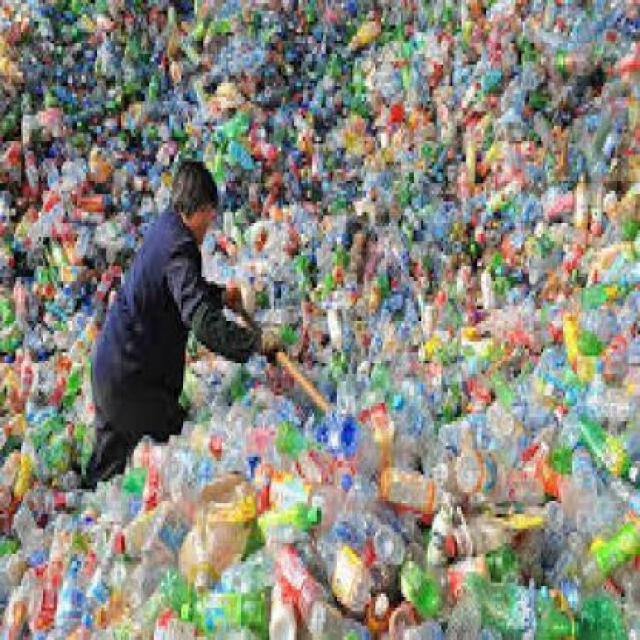garbage: (283, 8, 624, 620), (22, 479, 311, 612), (1, 3, 124, 254), (106, 14, 328, 140), (18, 188, 84, 536)
